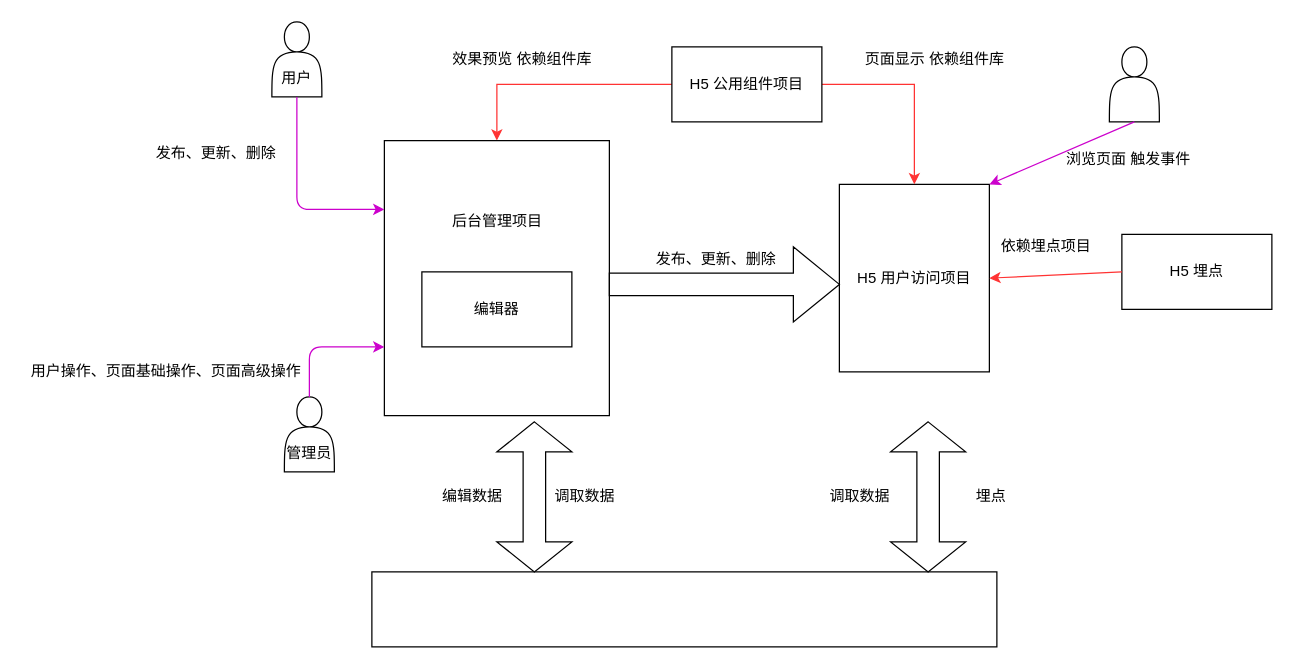
The diagram is 1294 pixels wide and 669 high, and some of its shapes have lost their labels. The shapes that lost their labels are listed below. From the top down, each one's centre as x and y in pixels, then its label:
At point (1133, 84): "访客".
At point (723, 284): "Text".
At point (684, 609): "数据库".
